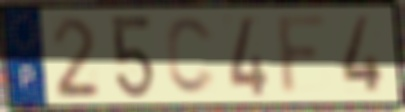2: (50, 13, 103, 101)
4: (339, 13, 387, 96), (226, 12, 271, 99)
5: (107, 13, 156, 101)
C: (164, 14, 218, 99)
F: (275, 11, 331, 99)
